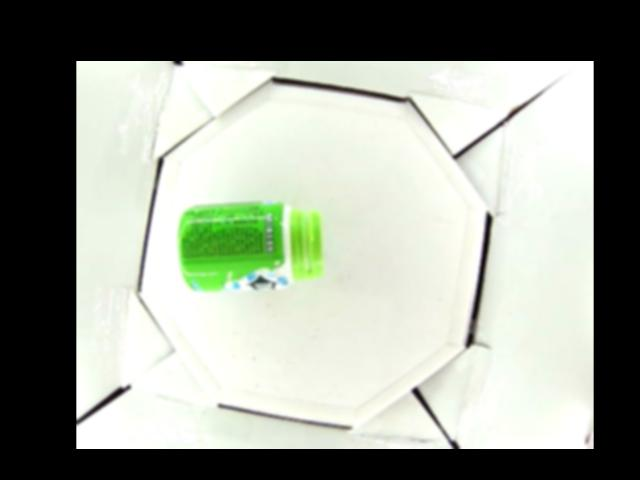Bottle: (176, 200, 322, 292)
